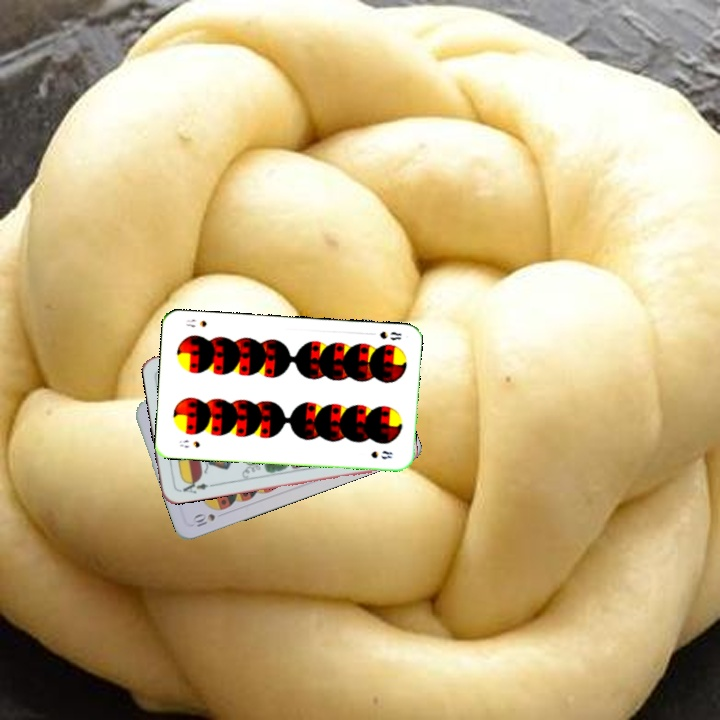EA: (176, 475, 216, 496)
S10: (188, 509, 218, 529)
S8: (376, 327, 404, 343), (175, 436, 203, 450)
